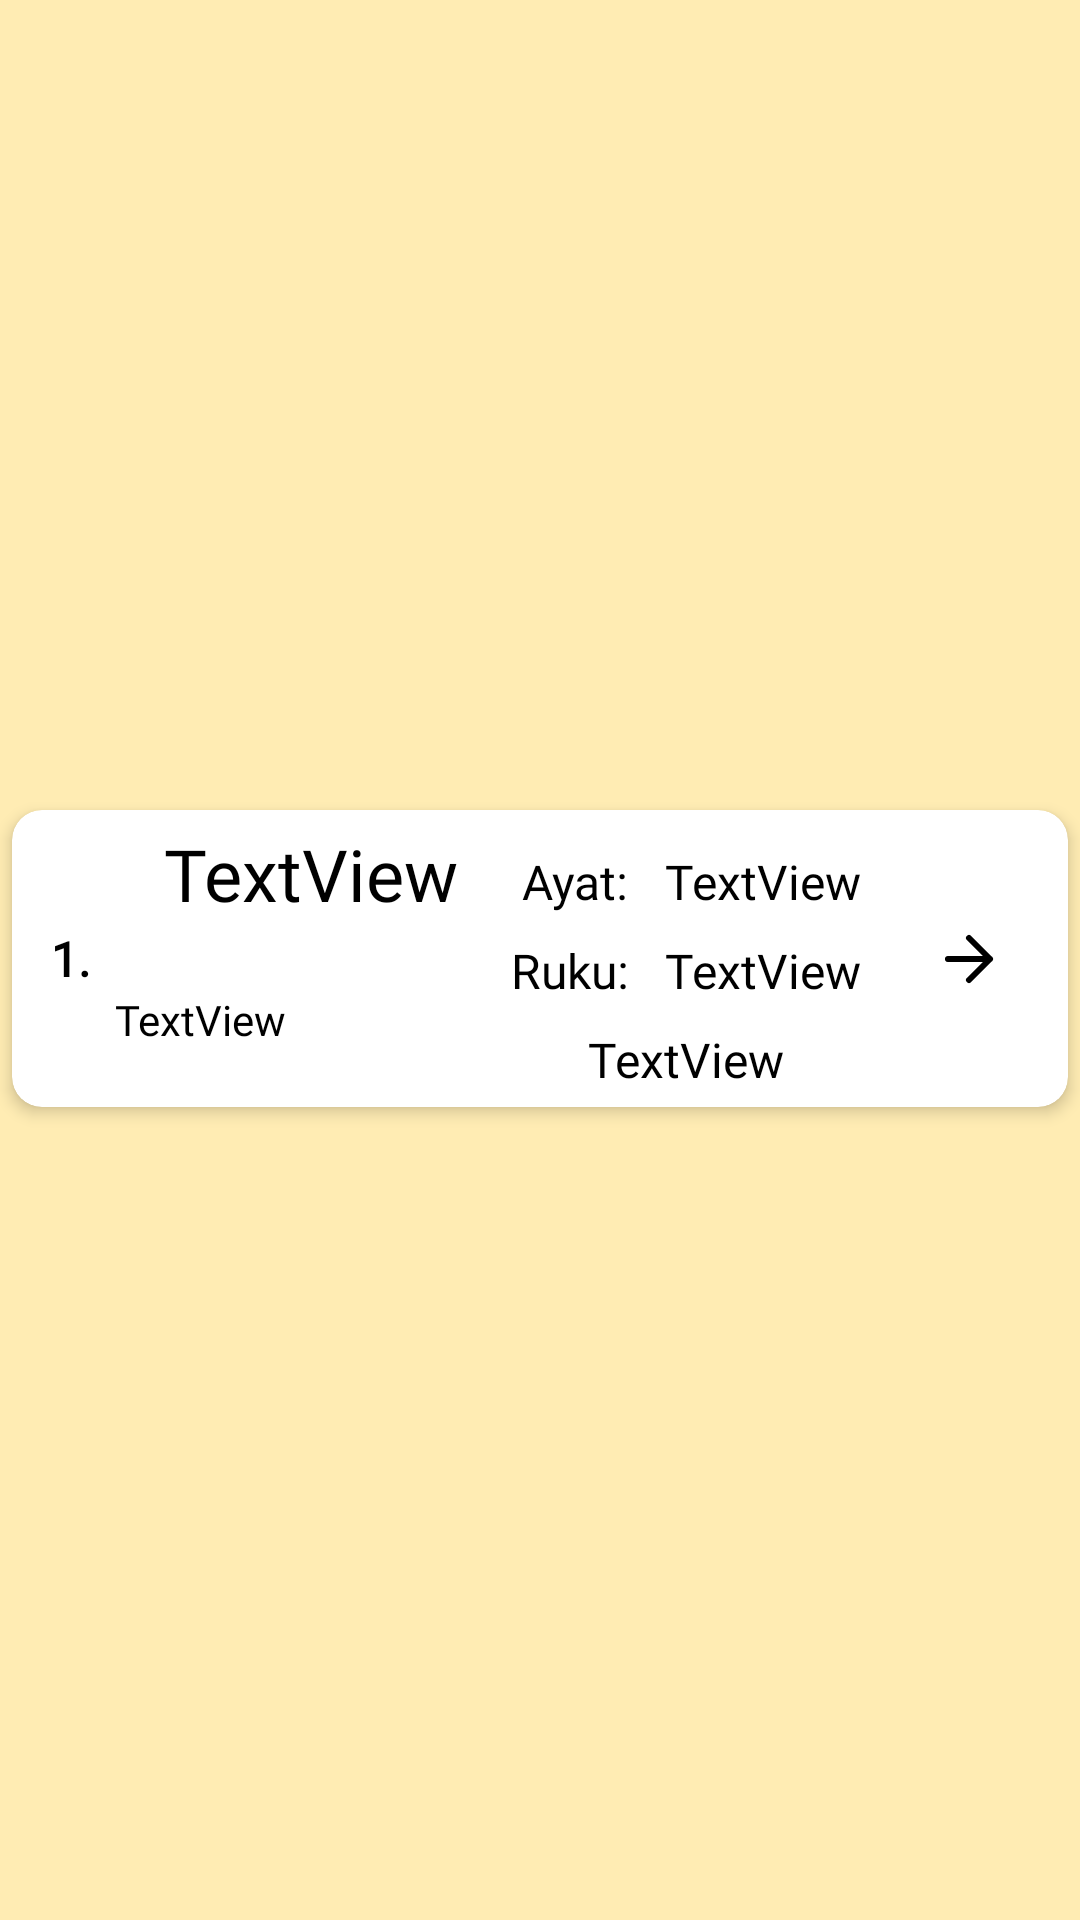

Screen size 1080 × 1920. Icon name, then its box in pixels as [x1,y1,x2,y2]:
arrow right: [945,935,993,983]
